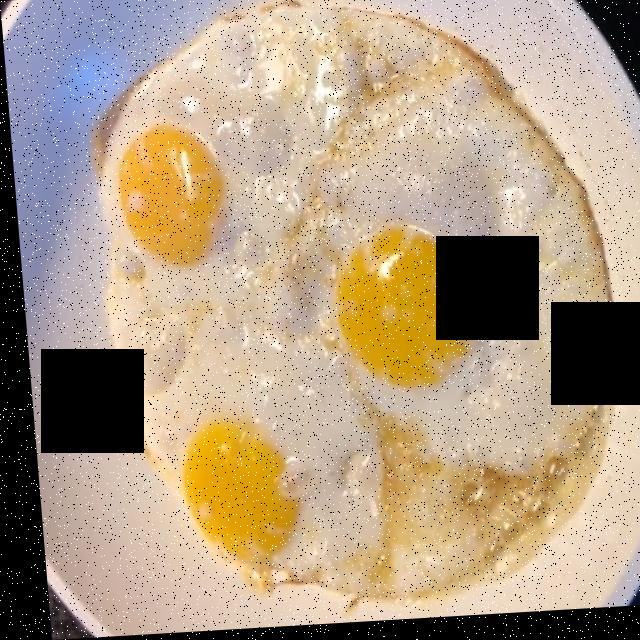egg: (102, 9, 583, 584)
